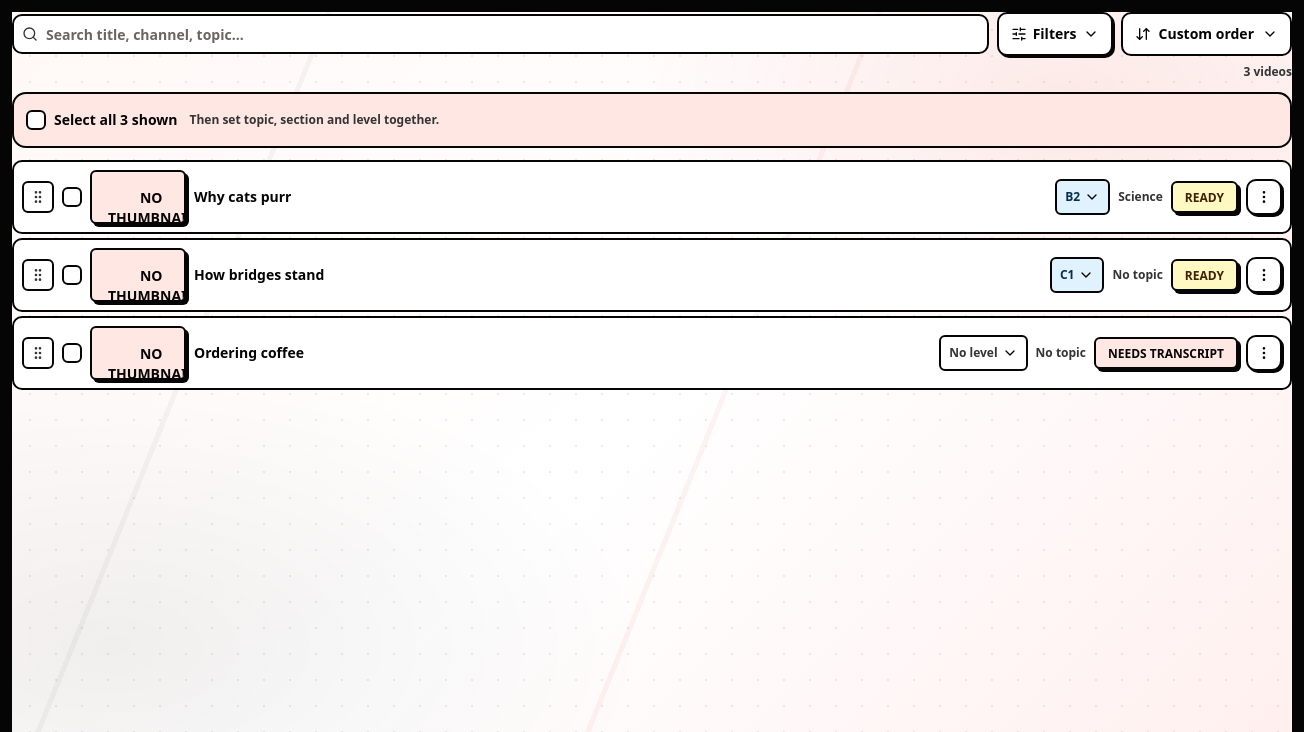
Test: VideoAssignTable filters › applies a quick view and selects only what is shown
The image size is (1304, 732).
Click the button "Filters".
click(1055, 34)  # box [997,12,1113,56]
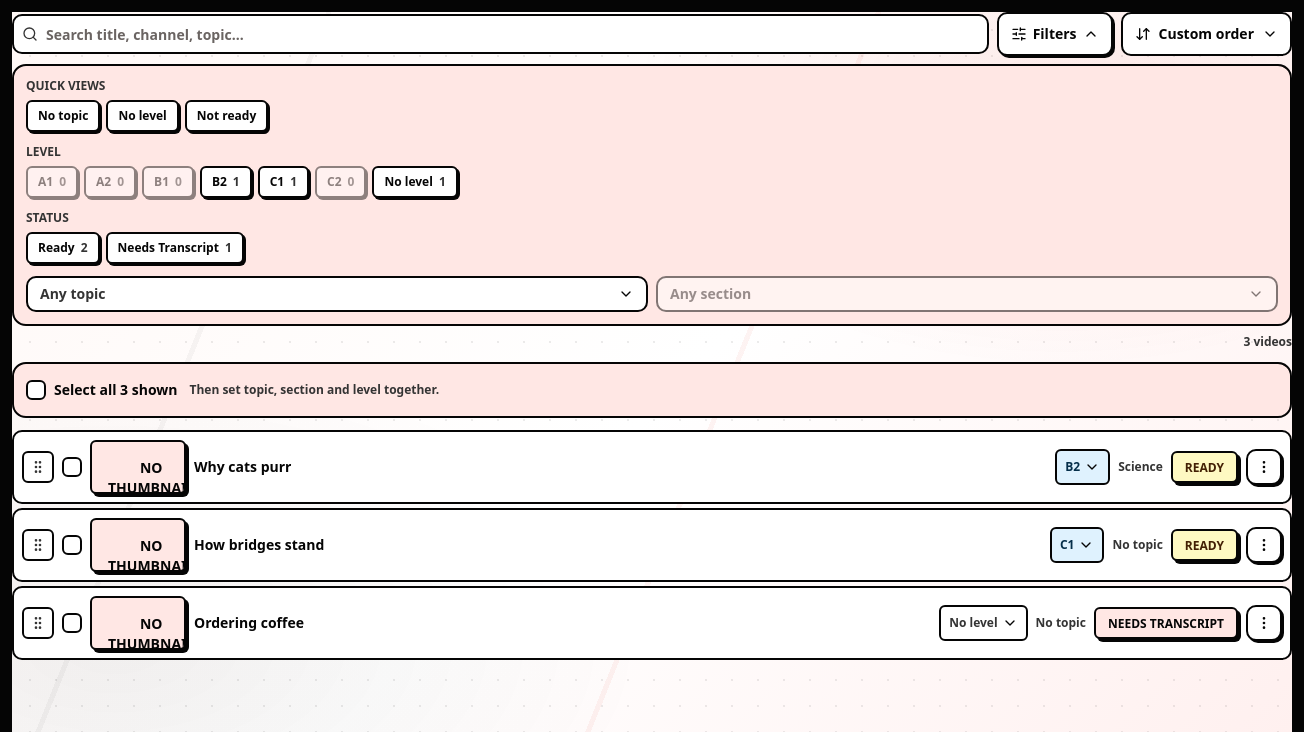
Click the button "Not ready".
click(227, 116)  # box [185,100,268,132]
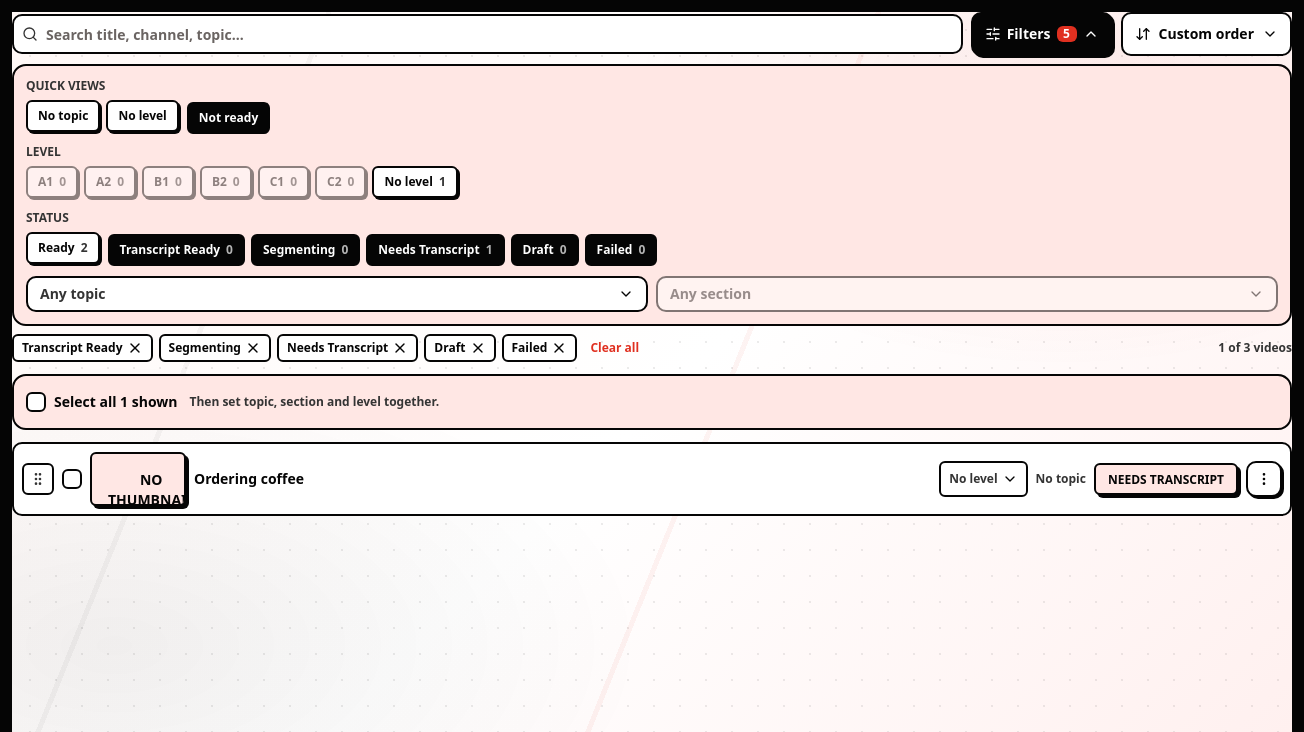
Click the checkbox.
click(36, 402)  # box [26,392,46,412]
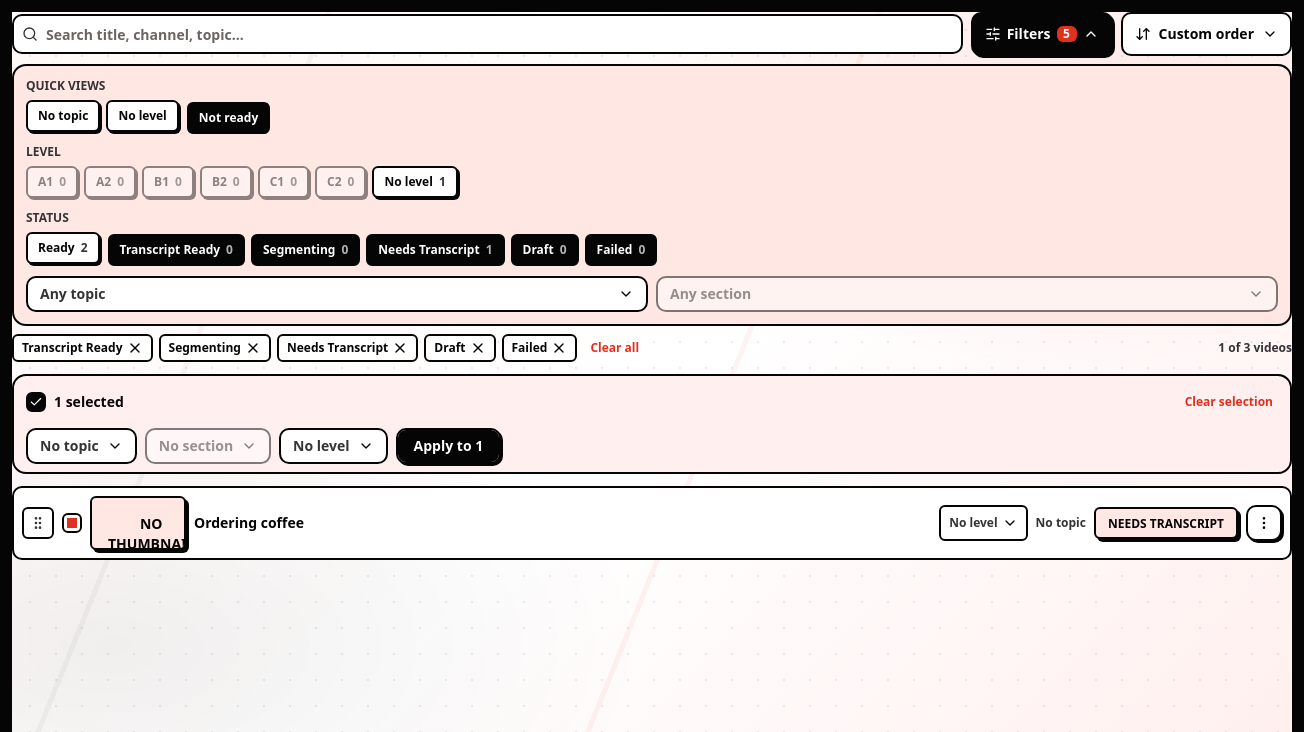
Now the checkbox "1 selected" is shown, box [26,392,124,412]
Now the button "Apply to 1" is shown, box [396,428,501,464]
